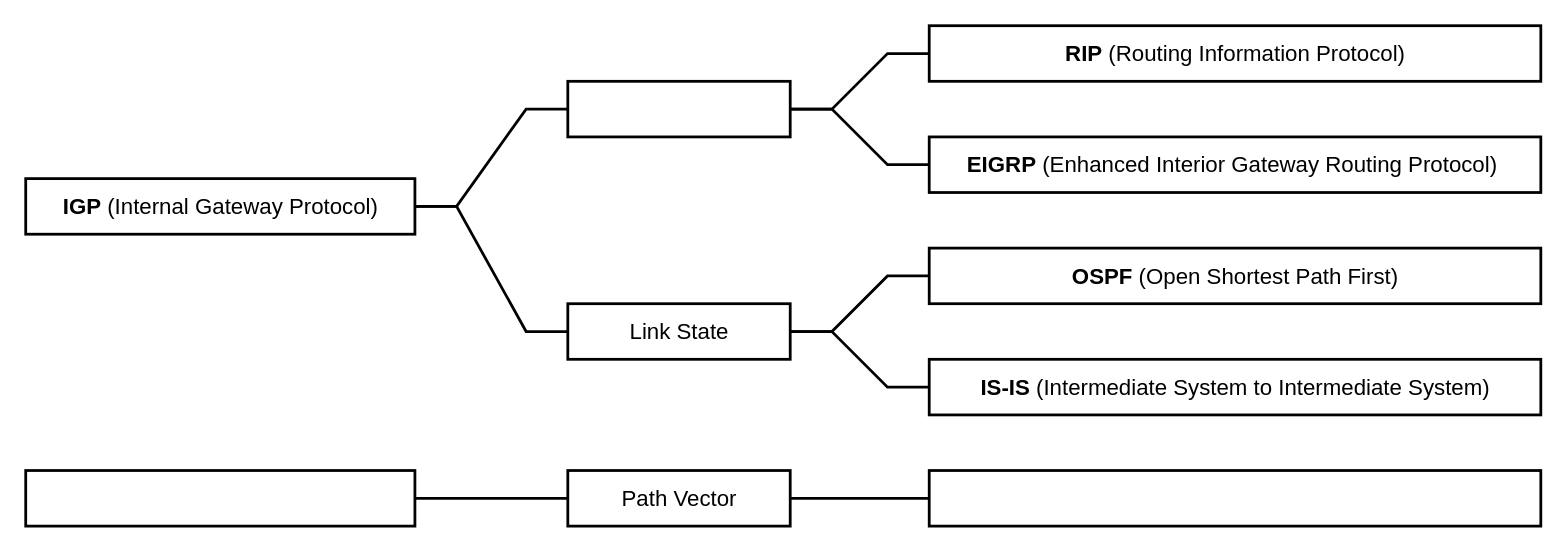
This 1565x550 diagram has some shape labels left out. Each missing label, with the centre of its shape:
BGP (Border Gateway Protocol): [1234,497]
Distance Vector: [678,108]
EGP (External Gateway Protocol): [220,497]
